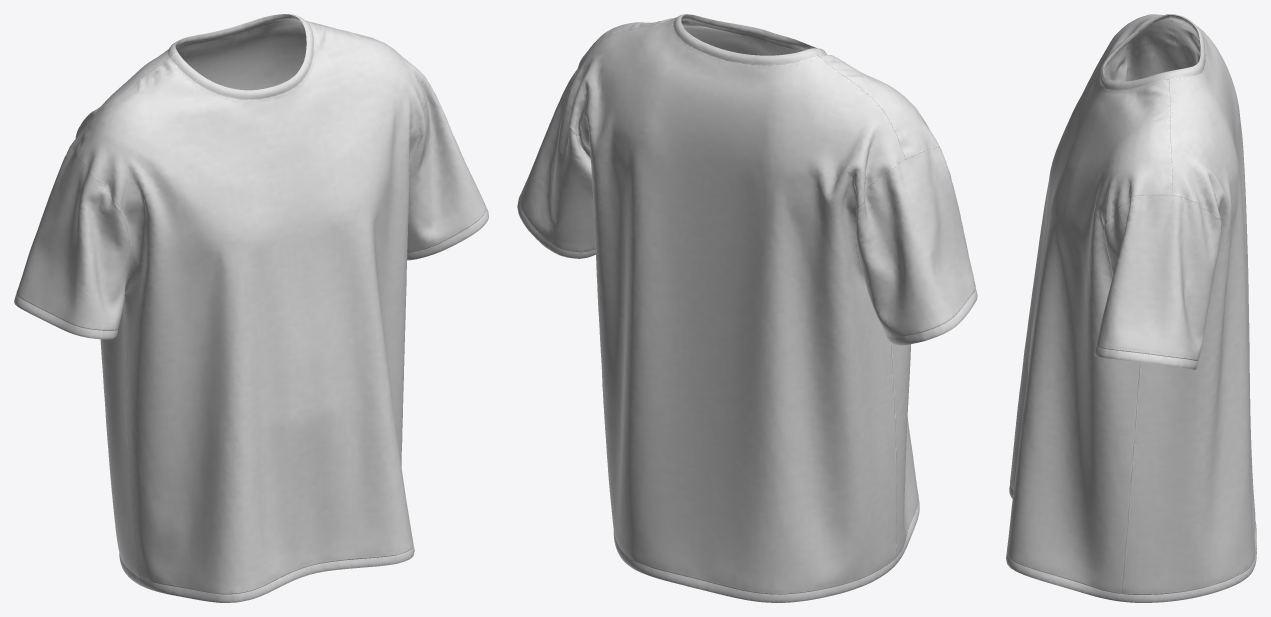
File: oversized_t-shirt-optimized.glb
3 views of the same model, side by side, from view 1: azimuth 30°, elevation 25°; view 2: azimuth 150°, elevation 25°; view 3: azimuth 270°, elevation 25° (orthographic). The views are drawn at different scales.
Parts seen in each view (by area): view 1: Object_4, Object_3, Object_5, Object_2; view 2: Object_4, Object_5, Object_3, Object_2; view 3: Object_4, Object_3, Object_5, Object_2.
Part boxes in pixels (x1,y1,x2,y2): Object_4: [16, 20, 426, 594]; Object_3: [75, 14, 488, 577]; Object_5: [95, 20, 344, 558]; Object_2: [14, 207, 488, 602]; Object_4: [569, 18, 975, 594]; Object_5: [574, 28, 896, 583]; Object_3: [518, 14, 939, 594]; Object_2: [517, 194, 977, 602]; Object_4: [1006, 14, 1255, 594]; Object_3: [1010, 14, 1254, 594]; Object_5: [1122, 18, 1254, 593]; Object_2: [1006, 346, 1256, 602].
Bounding box in the file's own units: 0.637 × 0.7108 × 0.3212.
Materials: 1 (1 with a texture image).
